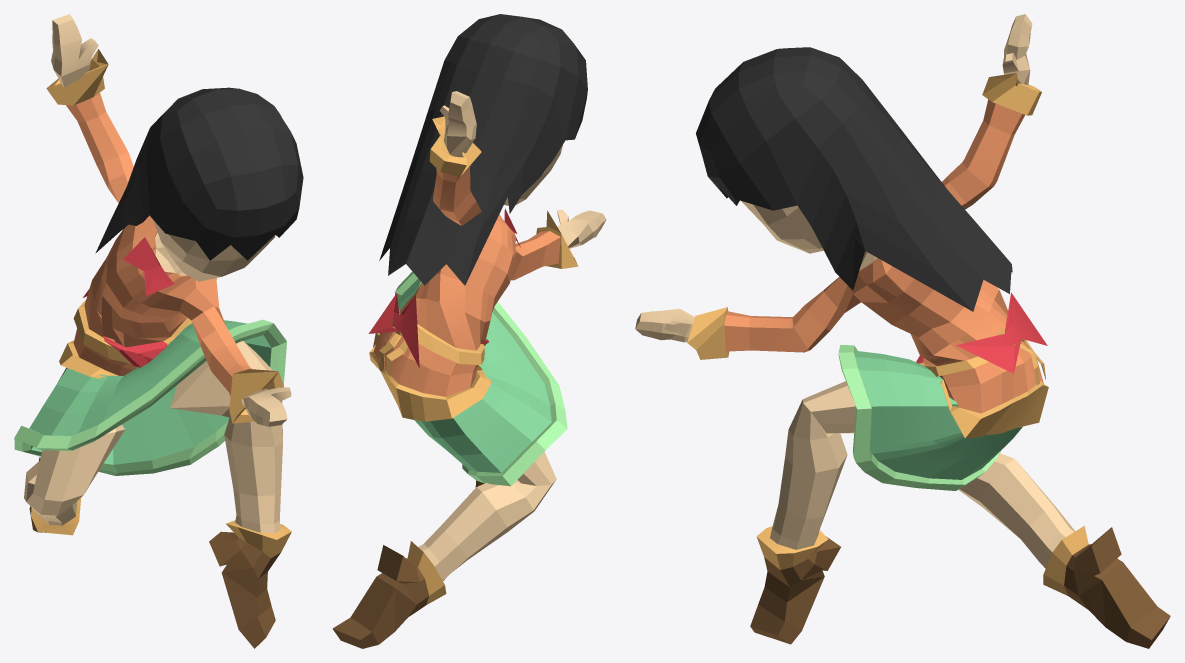
The model's file is maria2.fbx.
The picture shows the model from 3 angles, left to right: view 1: azimuth 30°, elevation 25°; view 2: azimuth 150°, elevation 25°; view 3: azimuth 270°, elevation 25°; orthographic projection. The views are drawn at different scales.
Parts seen in each view (by area): view 1: Cube.001; view 2: Cube.001; view 3: Cube.001.
Part boxes in pixels (left/top/right/bottom): Cube.001: left=14, top=14, right=303, bottom=648; Cube.001: left=332, top=14, right=606, bottom=648; Cube.001: left=635, top=14, right=1170, bottom=648.
Bounding box in the file's own units: 110 × 274 × 222.
